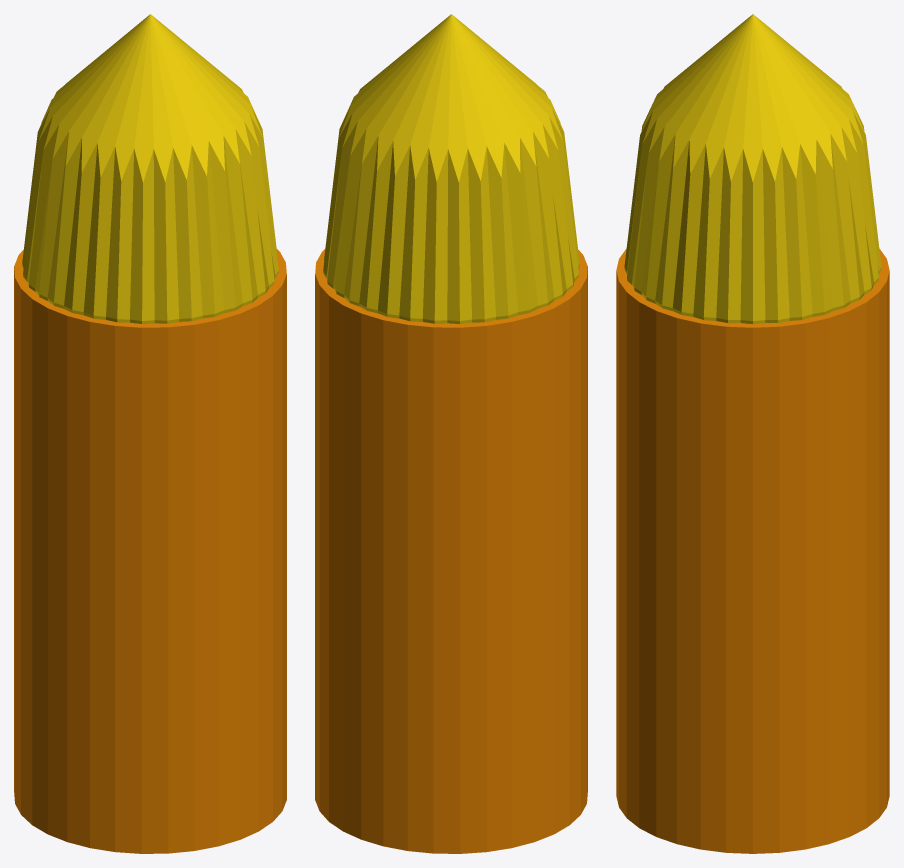
File: bullet.fbx
3 views of the same model, side by side, from view 1: azimuth 30°, elevation 25°; view 2: azimuth 150°, elevation 25°; view 3: azimuth 270°, elevation 25° (orthographic).
Visible parts, largest first — view 1: Цилиндр.001, Цилиндр; view 2: Цилиндр.001, Цилиндр; view 3: Цилиндр.001, Цилиндр.
Boxes of the visible parts, <box> form: Цилиндр.001: <box>14,249,286,853</box>; Цилиндр: <box>22,14,278,324</box>; Цилиндр.001: <box>315,249,587,853</box>; Цилиндр: <box>323,14,579,323</box>; Цилиндр.001: <box>616,248,889,853</box>; Цилиндр: <box>624,14,881,324</box>.
Bounding box in the file's own units: 37.5 × 118 × 37.5.
